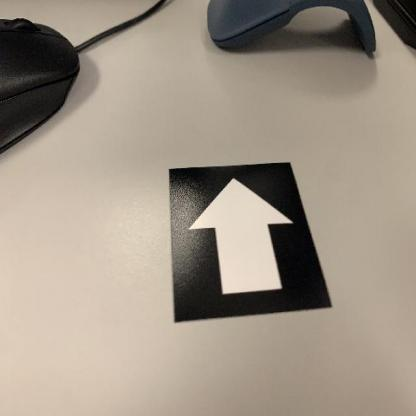up: (165, 161, 334, 325)
